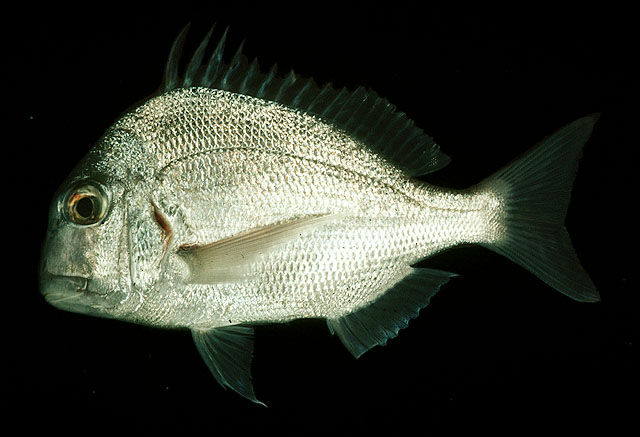fish: (43, 87, 606, 406)
